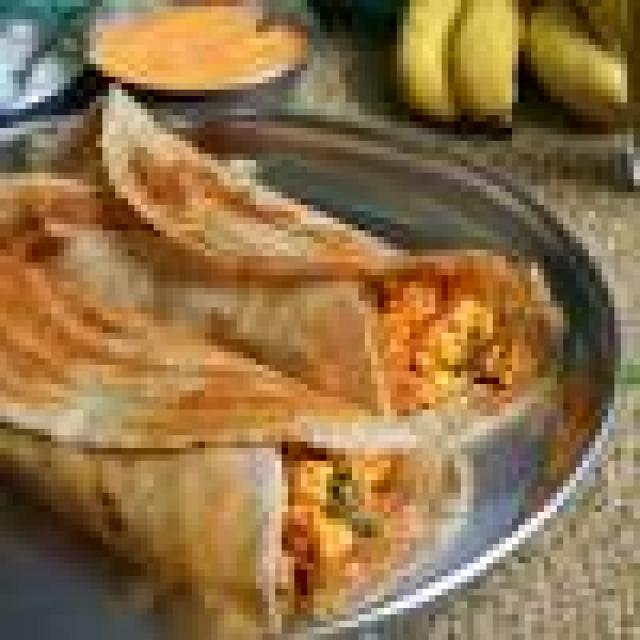dosa: (26, 96, 556, 435), (0, 237, 467, 621)
